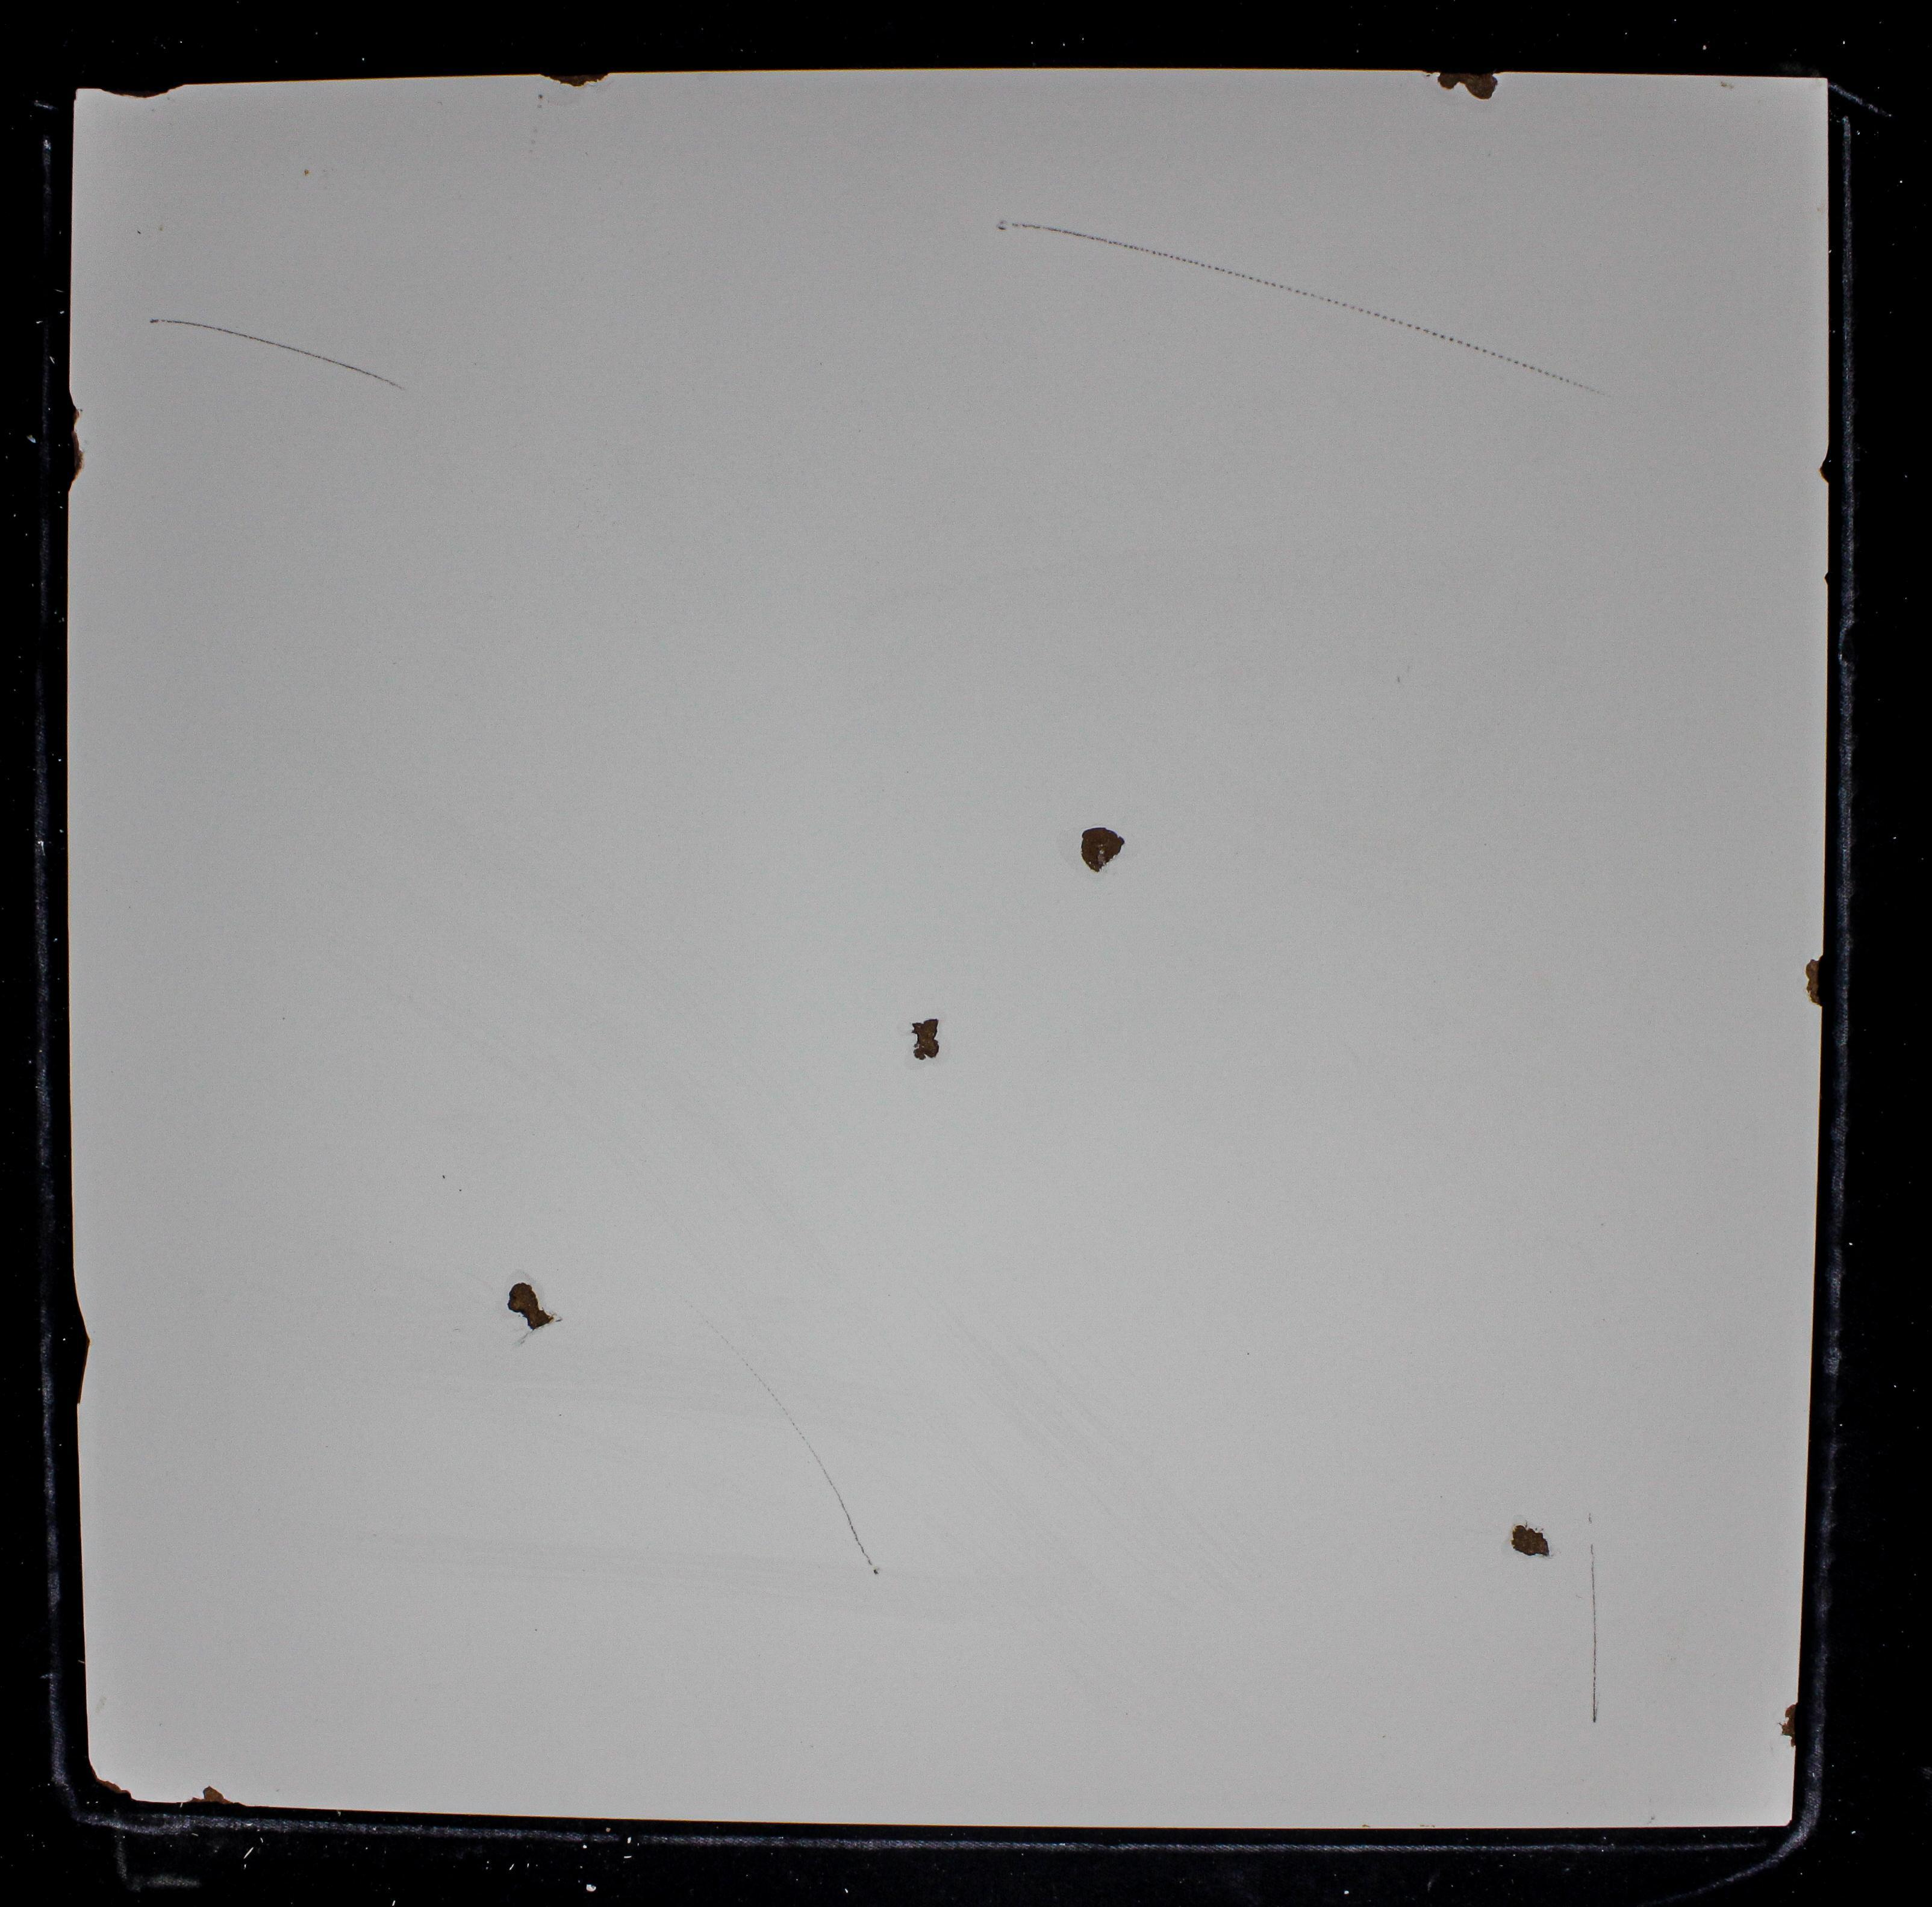edge-chipping: (70, 1266, 91, 1406), (1438, 68, 1501, 100), (540, 66, 613, 89), (96, 82, 189, 100), (183, 1785, 248, 1809), (1803, 952, 1827, 1009), (65, 430, 84, 496), (91, 1778, 136, 1802), (1778, 1699, 1799, 1750), (65, 391, 82, 430), (1818, 447, 1829, 487)
hole: (505, 1282, 555, 1332), (1081, 824, 1125, 871), (910, 1016, 943, 1065), (1509, 1523, 1551, 1558)
line: (997, 218, 1590, 386), (141, 304, 402, 389), (797, 1439, 889, 1579), (1584, 1540, 1602, 1727)
